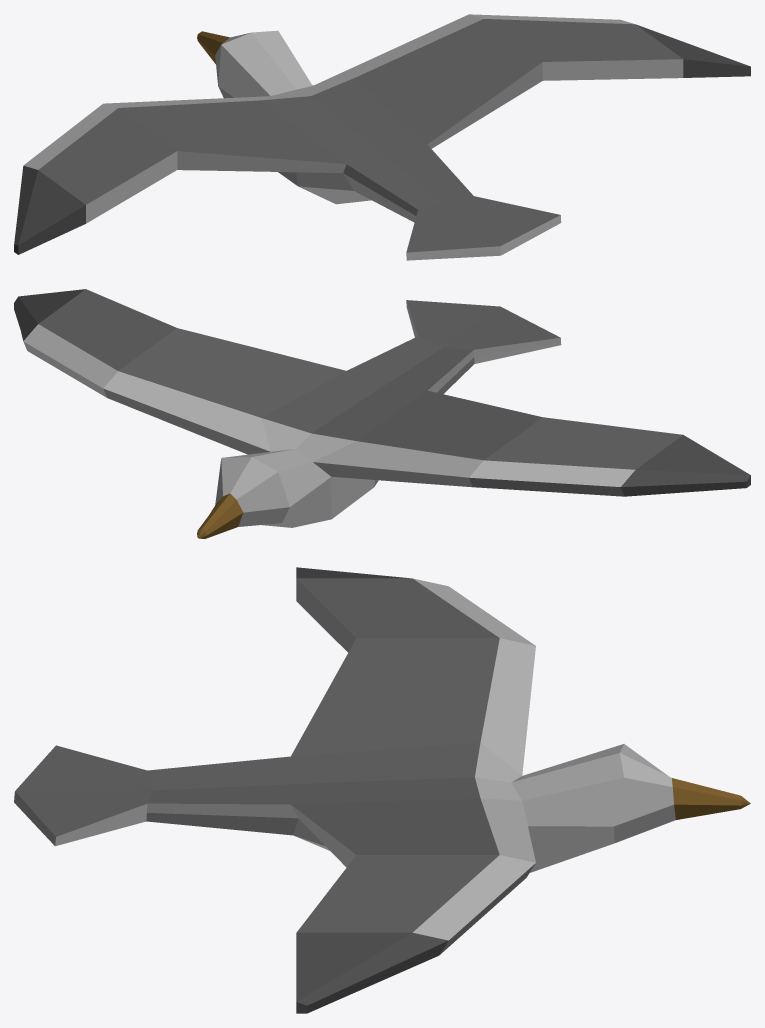
File: seagull.gltf
3 views of the same model, one above another, from view 1: azimuth 30°, elevation 25°; view 2: azimuth 150°, elevation 25°; view 3: azimuth 270°, elevation 25° (orthographic). The views are drawn at different scales.
Parts seen in each view (by area): view 1: seagull.glft; view 2: seagull.glft; view 3: seagull.glft.
Boxes of the visible parts, x1,y1,x2,y2 form: seagull.glft: [14, 14, 750, 260]; seagull.glft: [14, 289, 750, 538]; seagull.glft: [14, 567, 750, 1013].
Bounding box in the file's own units: 9.58 × 1.44 × 6.87.
